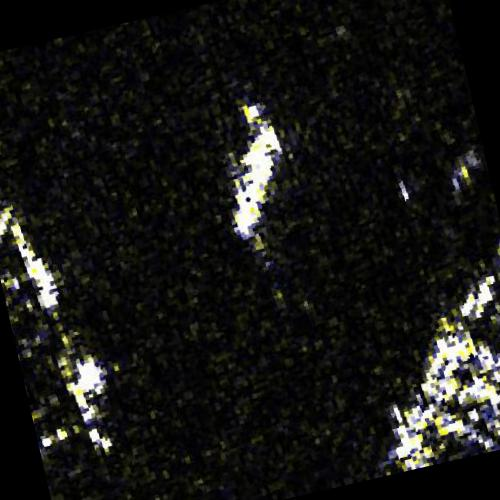ship: (233, 122, 283, 239)
